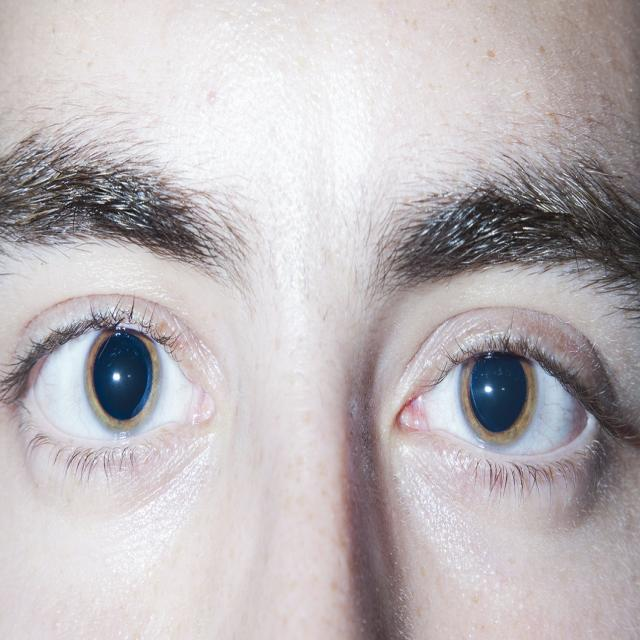eye: (386, 293, 640, 513), (6, 286, 239, 489)
